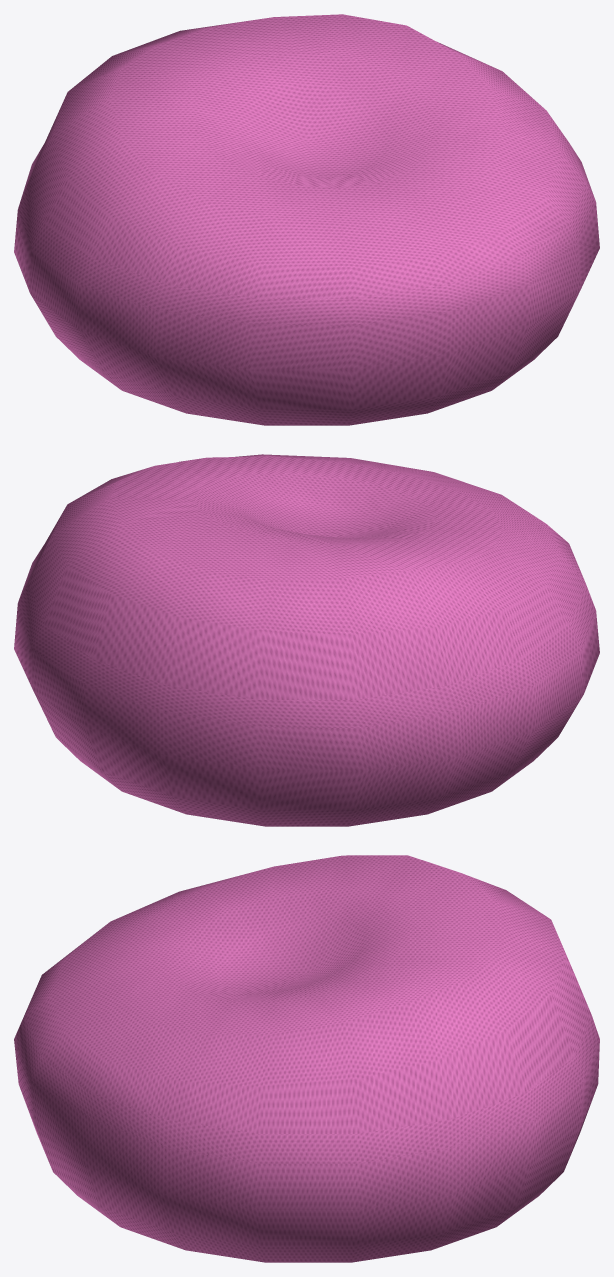
Rendered from Bean_Bag__08.FBX.
3 renders of one model, top to bottom at view 1: azimuth 30°, elevation 25°; view 2: azimuth 150°, elevation 25°; view 3: azimuth 270°, elevation 25°, orthographic.
Parts seen in each view (by area): view 1: Bean_bag_Chair; view 2: Bean_bag_Chair; view 3: Bean_bag_Chair.
Boxes of the visible parts, x1=… form: Bean_bag_Chair: x1=14, y1=14, x2=599, y2=425; Bean_bag_Chair: x1=14, y1=454, x2=599, y2=826; Bean_bag_Chair: x1=14, y1=855, x2=599, y2=1262.
Bounding box in the file's own units: 194 × 84.31 × 191.
